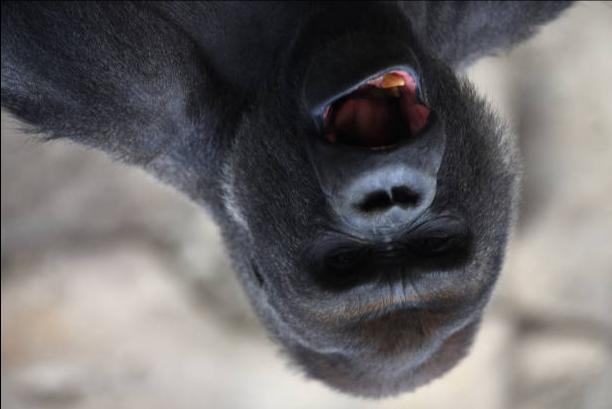gorille_Autres: (5, 0, 596, 402)
